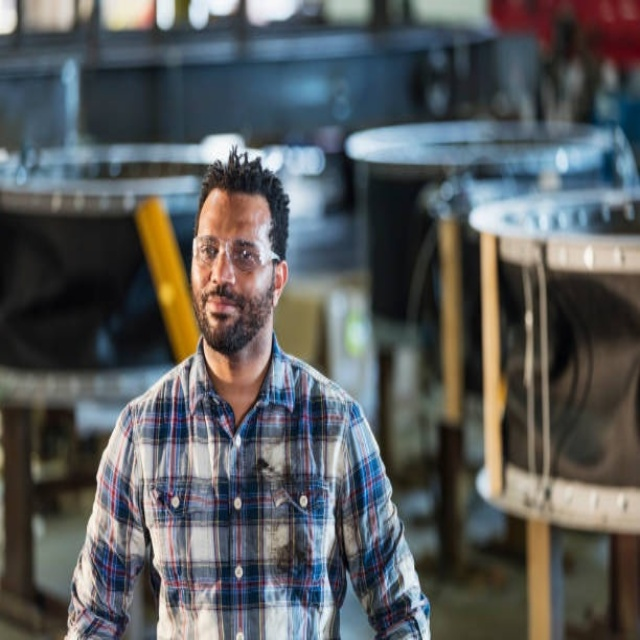Gafas: (192, 235, 281, 273)
Sin_mascara: (201, 287, 241, 336)
